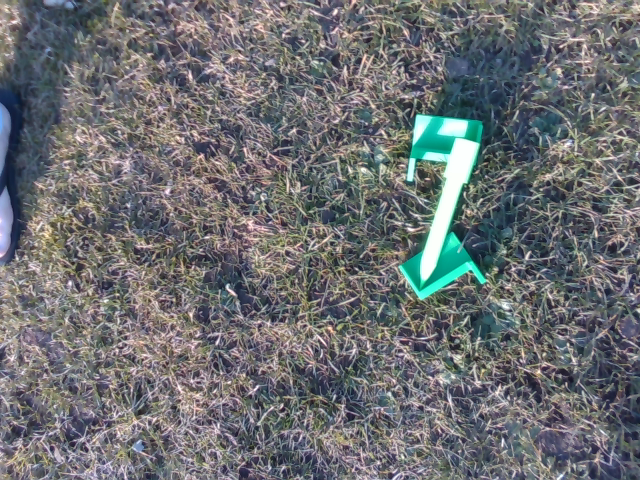Probe: (416, 138, 477, 293)
